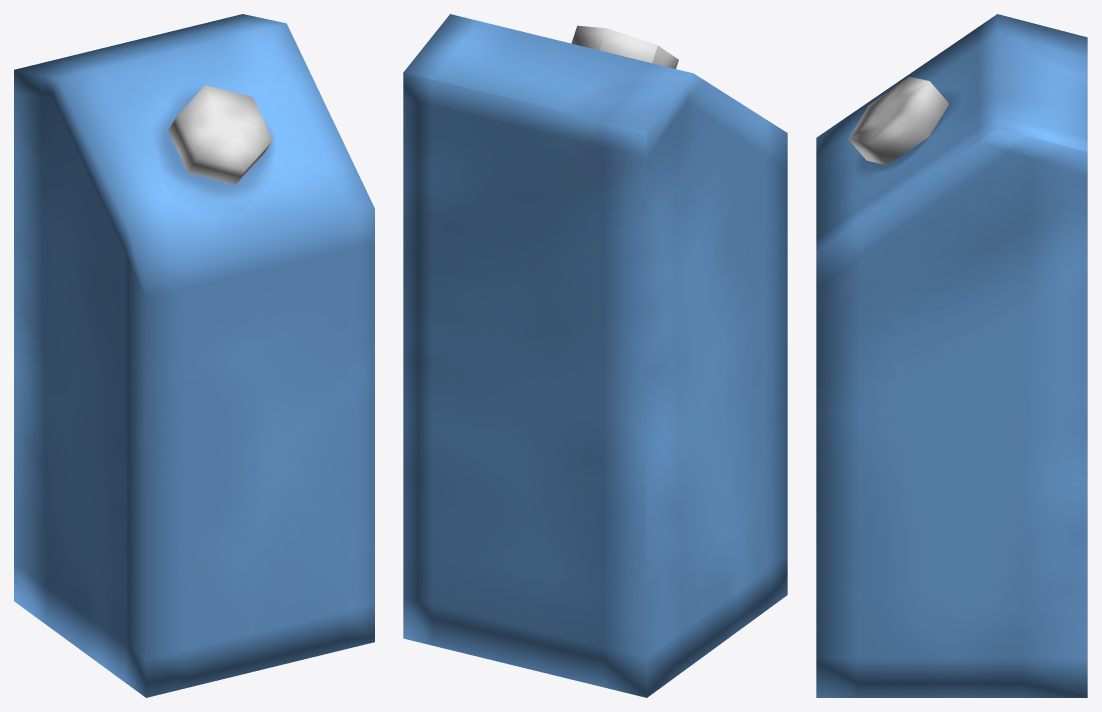
Rendered from milk_carton.glb.
The picture shows the model from 3 angles, left to right: view 1: azimuth 30°, elevation 25°; view 2: azimuth 150°, elevation 25°; view 3: azimuth 270°, elevation 25°; orthographic projection. The views are drawn at different scales.
Parts seen in each view (by area): view 1: bottle; view 2: bottle; view 3: bottle.
Boxes of the visible parts, x1,y1,x2,y2 form: bottle: (14,14,374,697); bottle: (403,14,787,697); bottle: (816,14,1087,697).
Size of the model in its own units: 0.1697 by 0.3929 by 0.1697.
Materials: 2 (2 with a texture image).
